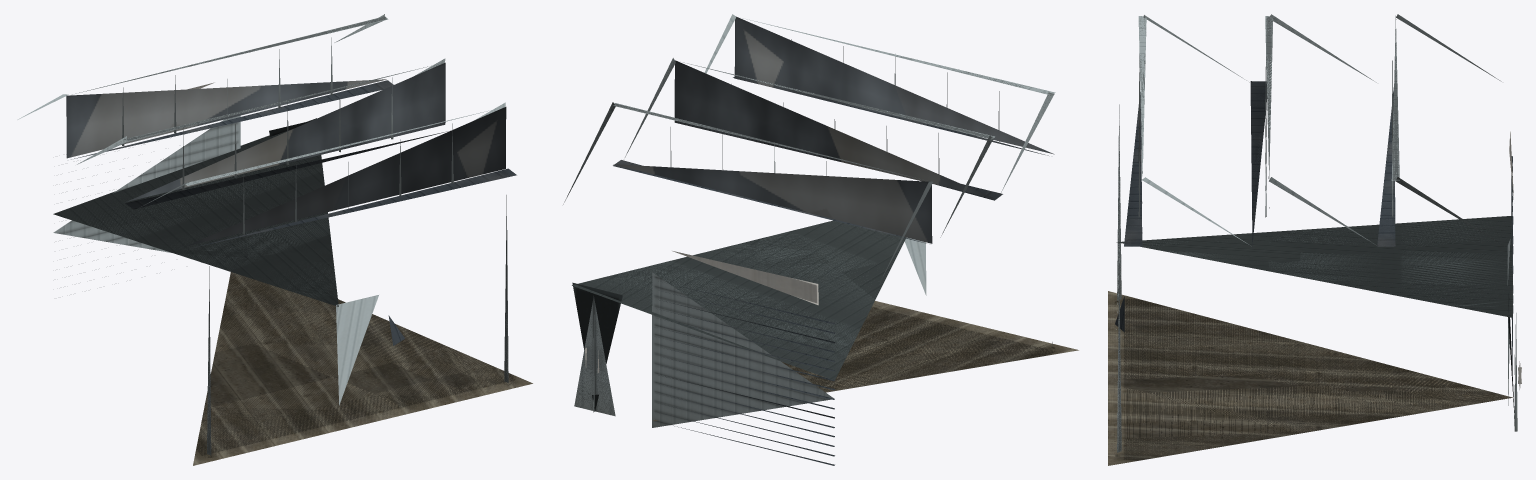
The model's file is factory_003.lod2.obj.
3 renders of one model, left to right at view 1: azimuth 30°, elevation 25°; view 2: azimuth 150°, elevation 25°; view 3: azimuth 270°, elevation 25°, orthographic. The views are drawn at different scales.
Parts seen in each view (by area): view 1: factory_003; view 2: factory_003; view 3: factory_003.
Boxes of the visible parts, <box> form: factory_003: <box>17,14,532,465</box>; factory_003: <box>563,14,1078,465</box>; factory_003: <box>1108,14,1521,465</box>.
Bounding box in the file's own units: 6.5 × 4.94 × 6.53.
1 material, 1 textured.
